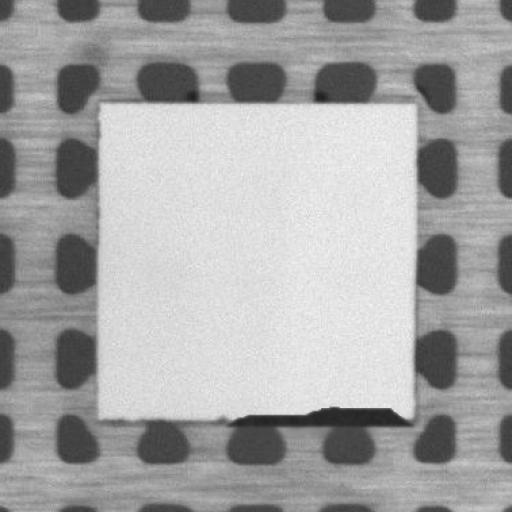DIE_BROKEN: (222, 402, 412, 426)
